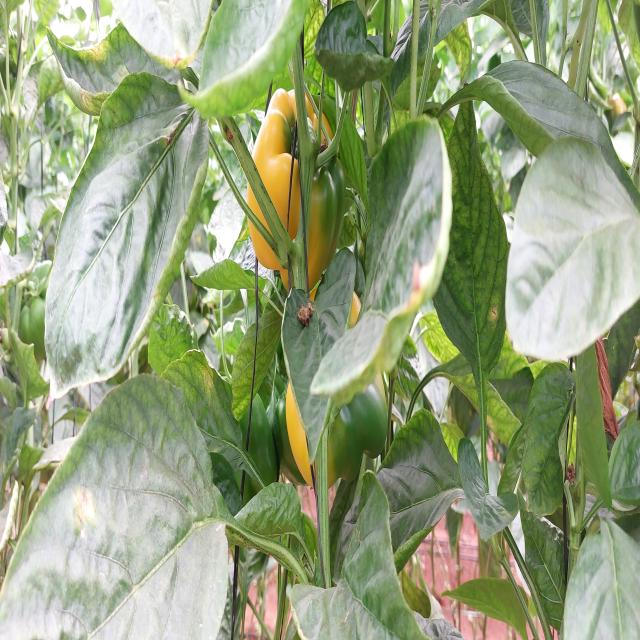GreenishYellow--Can-be-Harvested: (267, 301, 398, 491), (238, 85, 346, 287)
